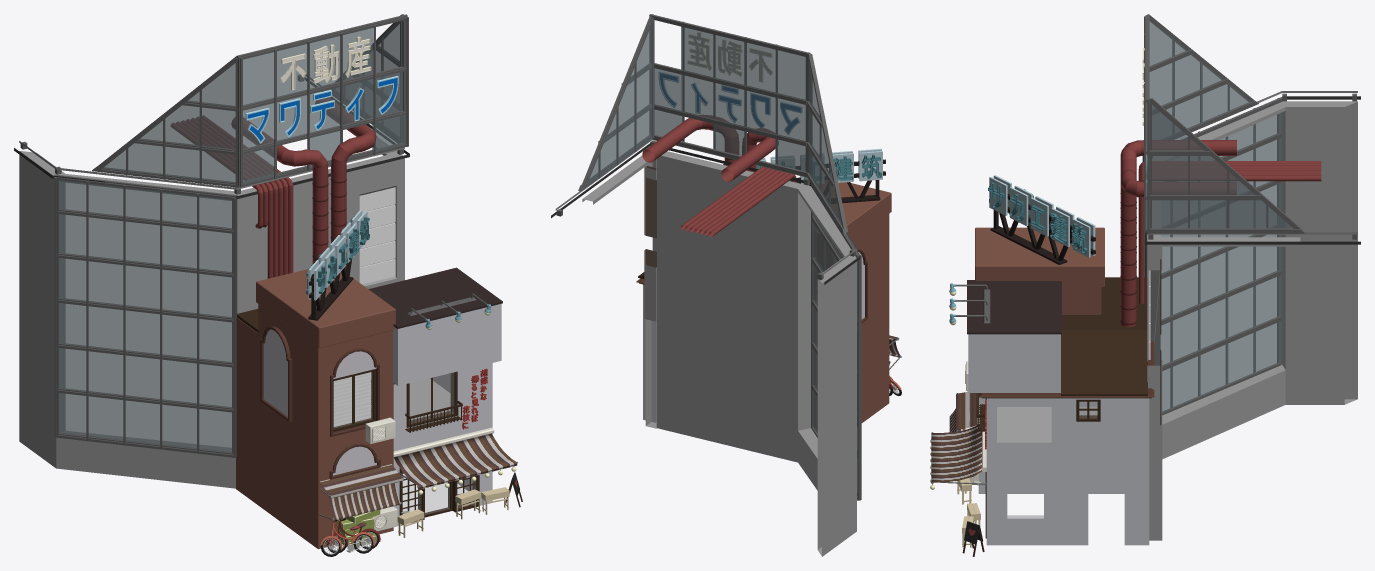
File: japanesehouse20.fbx
3 renders of one model, left to right at view 1: azimuth 30°, elevation 25°; view 2: azimuth 150°, elevation 25°; view 3: azimuth 270°, elevation 25°, orthographic. The views are drawn at different scales.
Visible parts, largest first — view 1: polySurface830, polySurface1061, polySurface1117, polySurface1004, polySurface1002, polySurface1541, polySurface844, polySurface845, polySurface1151, polySurface1193, polySurface856, polySurface1276 (+47 smaller); view 2: polySurface1061, polySurface1004, polySurface1117, polySurface856, polySurface1541, polySurface1002, polySurface830, polySurface1275, polySurface1276, polySurface1003, polySurface845, polySurface1156 (+24 smaller); view 3: polySurface1061, polySurface830, polySurface845, polySurface856, polySurface1242, polySurface1002, polySurface844, polySurface1541, polySurface1151, polySurface1275, polySurface1117, polySurface1193 (+16 smaller).
Part boxes in pixels (bbox=[...]): polySurface830: bbox=[59, 180, 231, 452]; polySurface1061: bbox=[19, 137, 404, 488]; polySurface1117: bbox=[236, 304, 393, 549]; polySurface1004: bbox=[243, 28, 373, 149]; polySurface1002: bbox=[103, 63, 235, 182]; polySurface1541: bbox=[256, 269, 395, 348]; polySurface844: bbox=[393, 303, 501, 385]; polySurface845: bbox=[393, 363, 492, 525]; polySurface1151: bbox=[368, 267, 502, 328]; polySurface1193: bbox=[394, 433, 517, 489]; polySurface856: bbox=[331, 21, 402, 142]; polySurface1276: bbox=[231, 117, 328, 263]; polySurface1061: bbox=[582, 151, 856, 556]; polySurface1004: bbox=[681, 26, 805, 141]; polySurface1117: bbox=[817, 214, 889, 429]; polySurface856: bbox=[585, 18, 654, 187]; polySurface1541: bbox=[808, 180, 891, 254]; polySurface1002: bbox=[808, 58, 842, 226]; polySurface830: bbox=[813, 215, 857, 499]; polySurface1275: bbox=[642, 115, 738, 165]; polySurface1276: bbox=[721, 128, 778, 181]; polySurface1003: bbox=[654, 68, 681, 111]; polySurface845: bbox=[643, 284, 656, 422]; polySurface1156: bbox=[857, 256, 860, 500]; polySurface1061: bbox=[1147, 101, 1357, 540]; polySurface830: bbox=[1160, 112, 1281, 411]; polySurface845: bbox=[986, 398, 1149, 545]; polySurface856: bbox=[1149, 98, 1292, 228]; polySurface1242: bbox=[1061, 277, 1147, 395]; polySurface1002: bbox=[1149, 20, 1250, 139]; polySurface844: bbox=[968, 334, 1060, 392]; polySurface1541: bbox=[975, 227, 1104, 286]; polySurface1151: bbox=[967, 280, 1061, 334]; polySurface1275: bbox=[1120, 169, 1236, 327]; polySurface1117: bbox=[978, 287, 1124, 493]; polySurface1193: bbox=[931, 425, 982, 483].
Size of the model in its own units: 488 by 631 by 556.
Materials: 51 (3 with a texture image).
